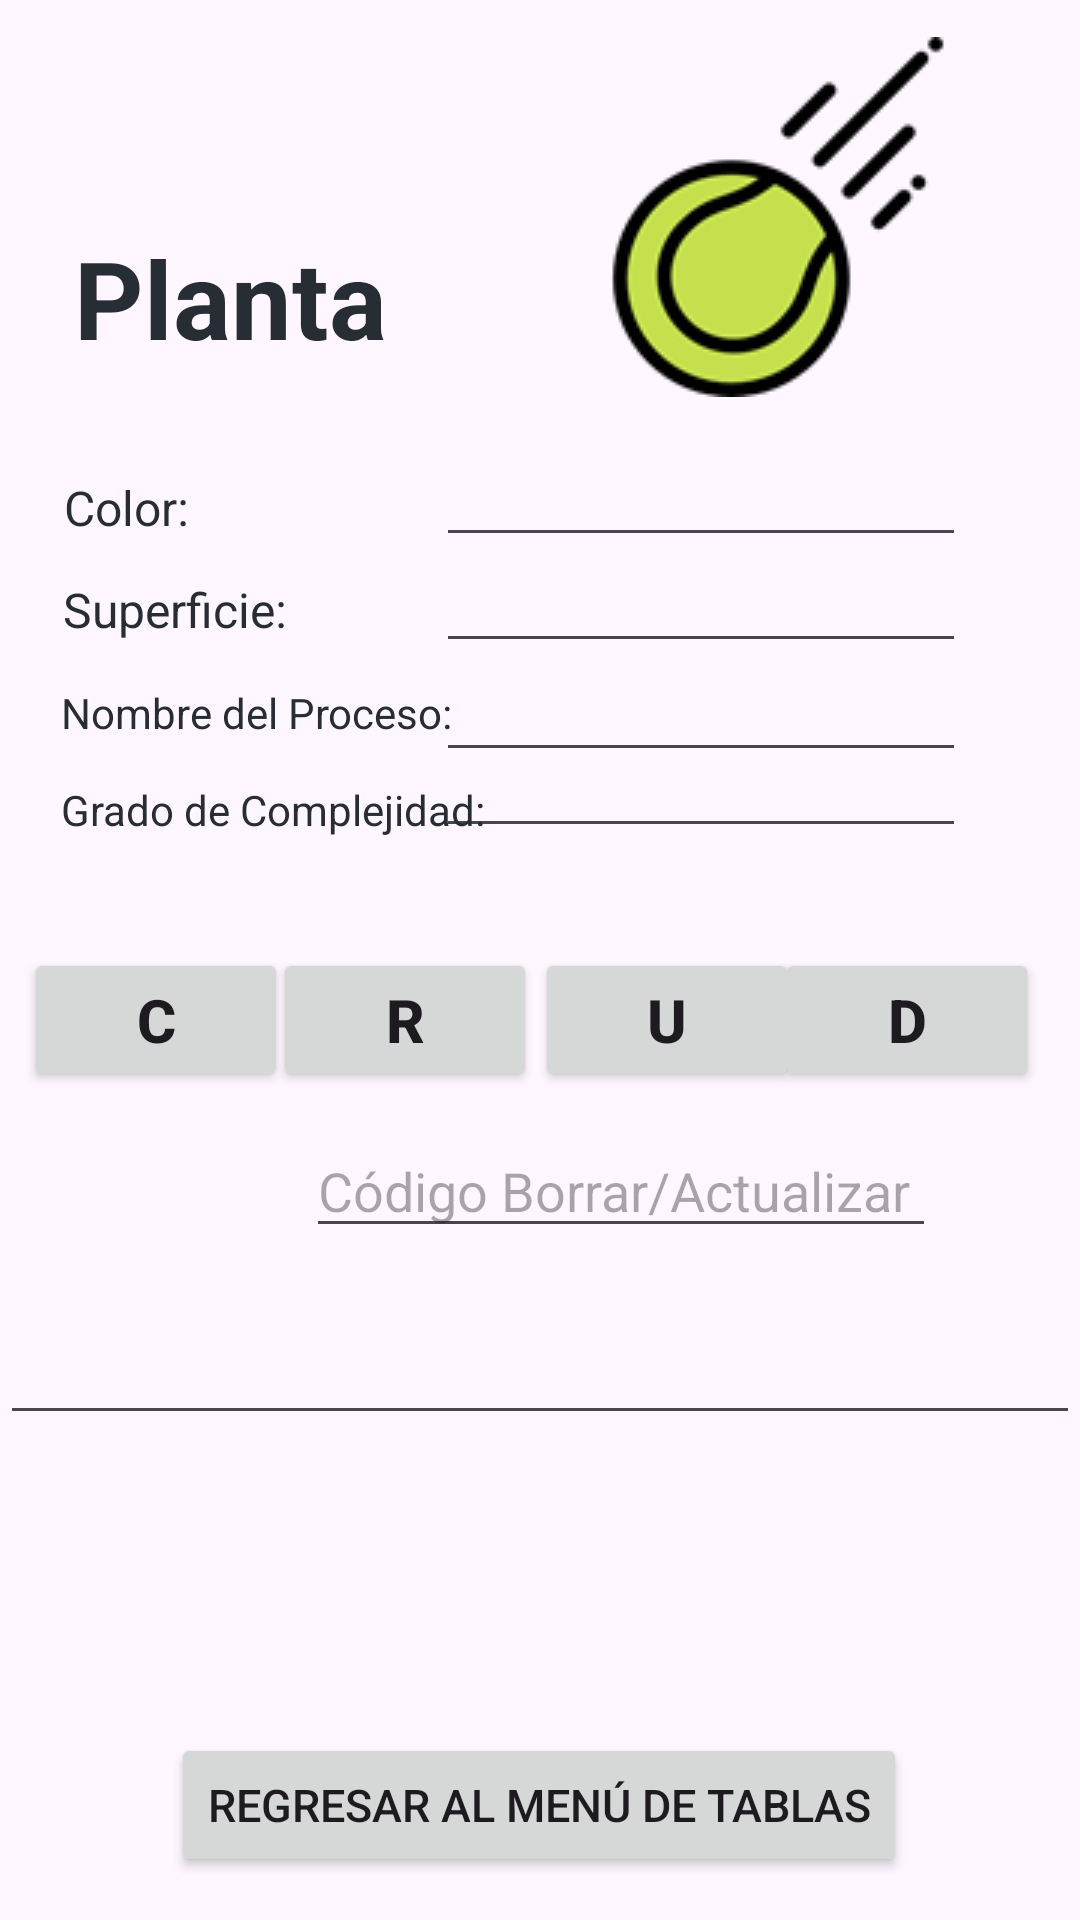

Icon click points for this 1080w x 1920h phone screenshot, format point (x, y):
tenisnuevo: point (778, 217)
